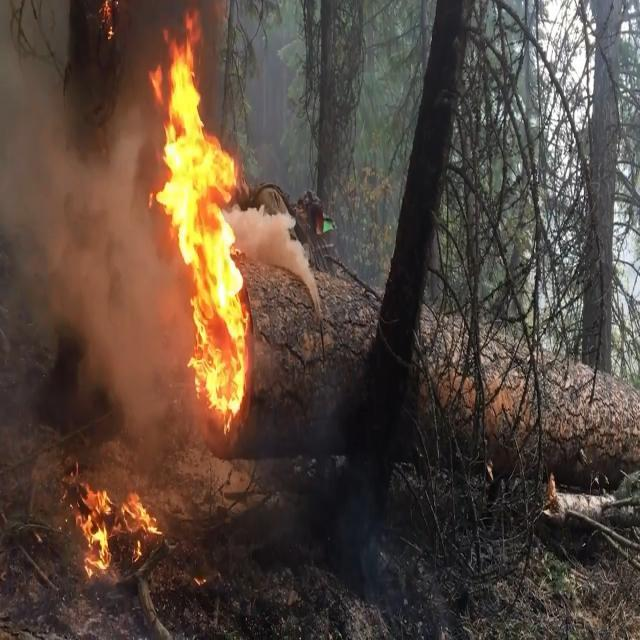Fire: (72, 0, 250, 588)
